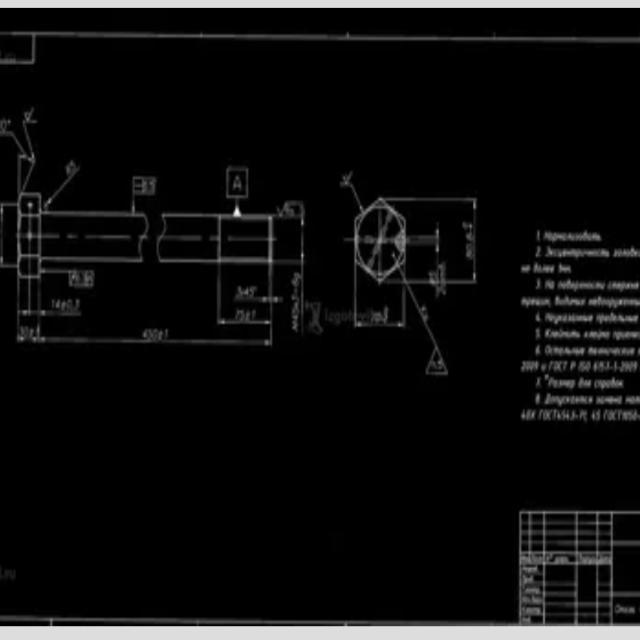marking_line: (17, 279, 274, 348), (407, 194, 479, 286), (273, 212, 307, 342), (214, 264, 274, 330), (17, 279, 84, 318), (354, 284, 407, 328), (233, 264, 284, 306), (273, 211, 308, 266), (42, 165, 80, 211), (407, 221, 439, 259), (226, 167, 250, 214), (42, 267, 95, 287), (1, 202, 17, 268), (131, 176, 157, 213), (339, 178, 364, 213), (1, 131, 27, 154), (23, 118, 38, 157)
special_symbol: (405, 284, 454, 379)
